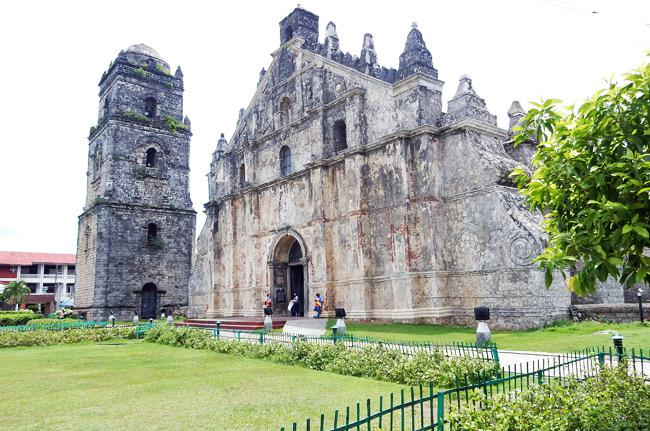Environmental Damage: (119, 106, 188, 133), (134, 58, 175, 86), (94, 196, 113, 217), (148, 236, 167, 252)
Paoay Church: (76, 4, 604, 327)
